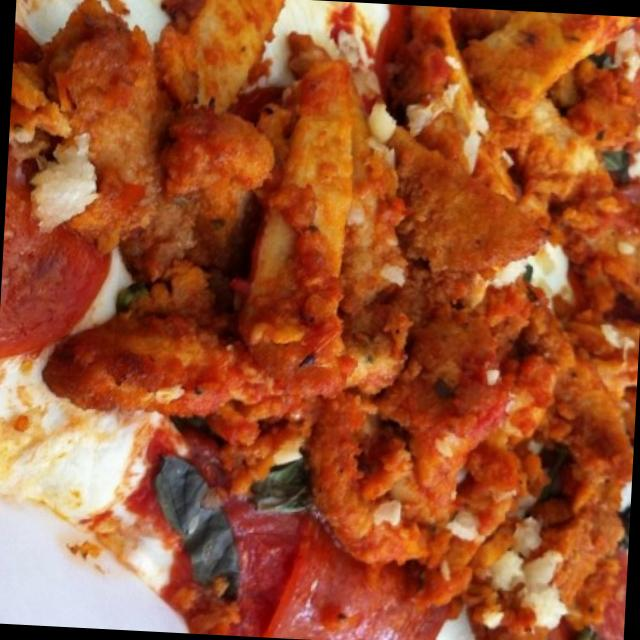basil: (142, 442, 254, 610), (242, 439, 322, 535)
tomato: (159, 488, 469, 640), (0, 137, 125, 377)
